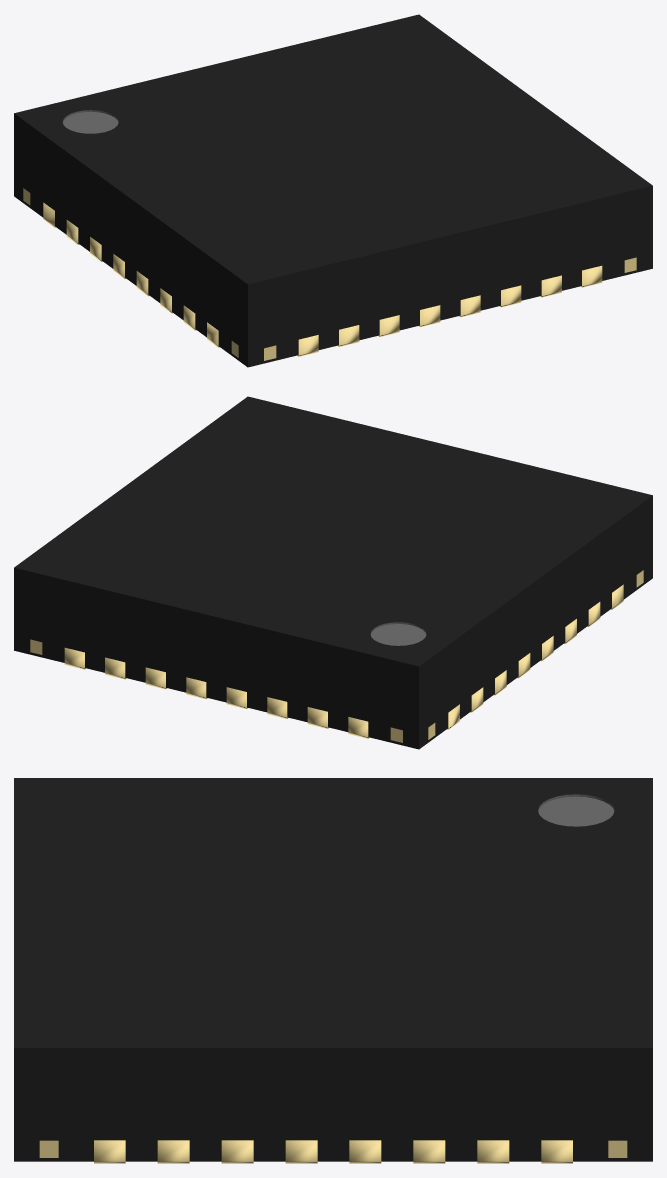
The picture shows the model from 3 angles, top to bottom: view 1: azimuth 30°, elevation 25°; view 2: azimuth 150°, elevation 25°; view 3: azimuth 270°, elevation 25°; orthographic projection. The views are drawn at different scales.
Parts seen in each view (by area): view 1: =>[0:1:1:3]; view 2: =>[0:1:1:3]; view 3: =>[0:1:1:3].
Boxes of the visible parts, x1,y1,x2,y2 form: =>[0:1:1:3]: [14, 14, 652, 367]; =>[0:1:1:3]: [14, 396, 652, 749]; =>[0:1:1:3]: [14, 778, 652, 1163].
Bounding box in the file's own units: 0.005 × 0.001 × 0.005.
